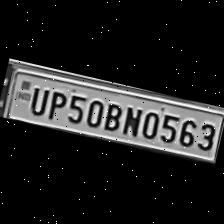0: (81, 95, 106, 129), (137, 106, 162, 140)
3: (194, 117, 218, 152)
5: (62, 88, 89, 124), (156, 108, 182, 144)
6: (174, 114, 198, 148)
B: (100, 98, 125, 132)
N: (119, 102, 144, 137)
P: (43, 86, 68, 120)
U: (26, 82, 50, 116)
